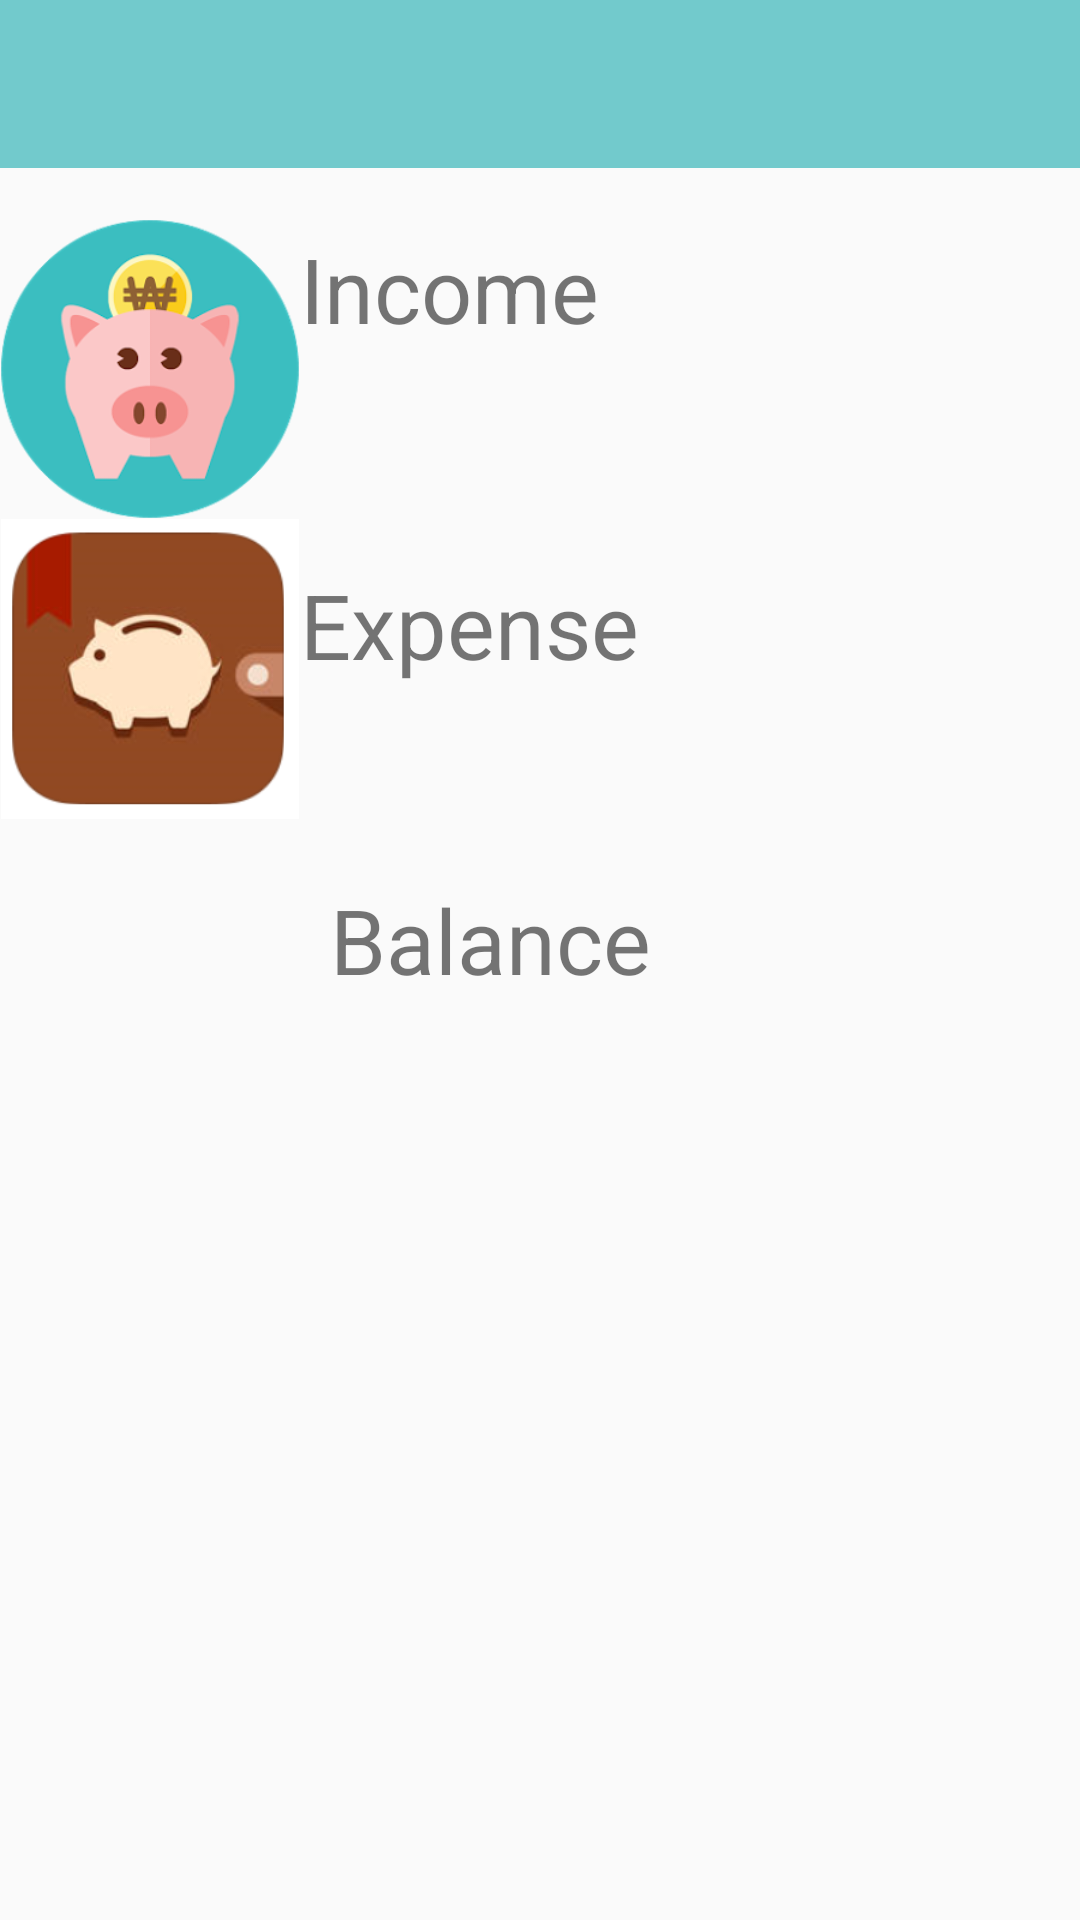

Icons on this 1080px×1920px Android screen, each with its box as (x1, y1, x2, y2):
brownpig: (12, 532, 284, 805)
pinkpig: (1, 220, 299, 518)
